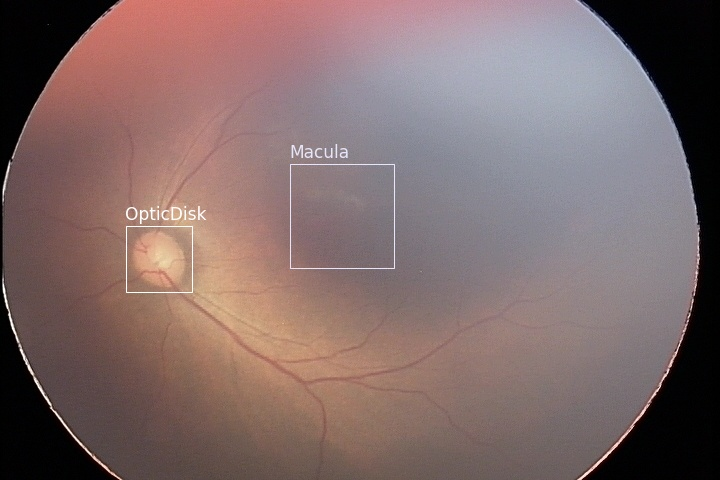Macula: (289, 163, 393, 267)
OpticDisk: (125, 225, 191, 291)
